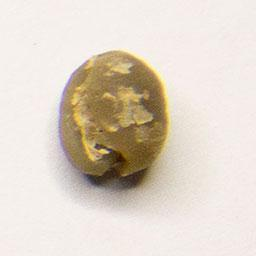peaberry: (54, 45, 172, 184)
